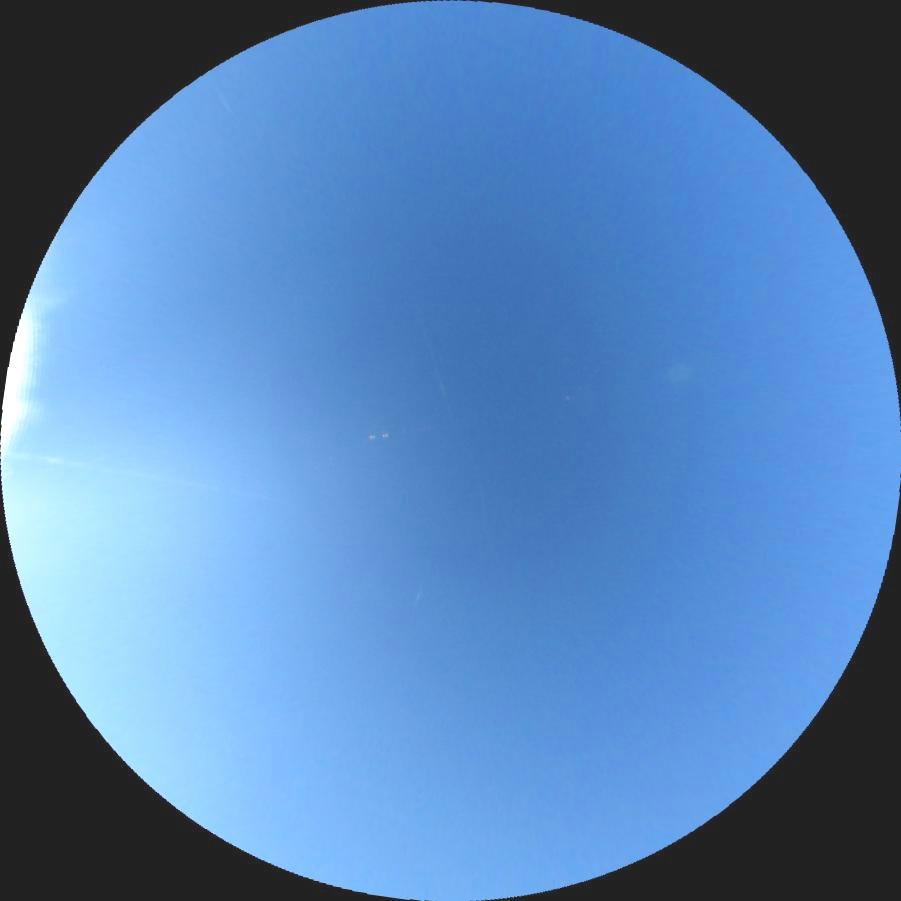contrail young: (215, 88, 232, 113)
parasite: (14, 452, 276, 502), (424, 337, 446, 395), (412, 585, 422, 610)
